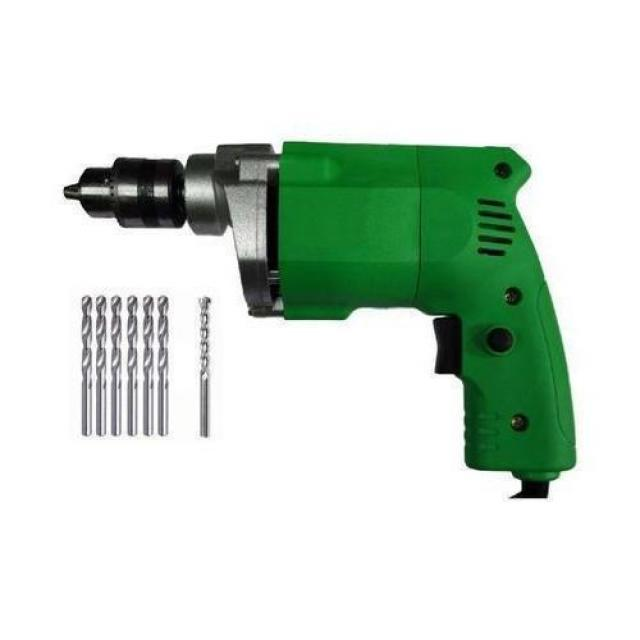drill: (62, 140, 576, 500)
